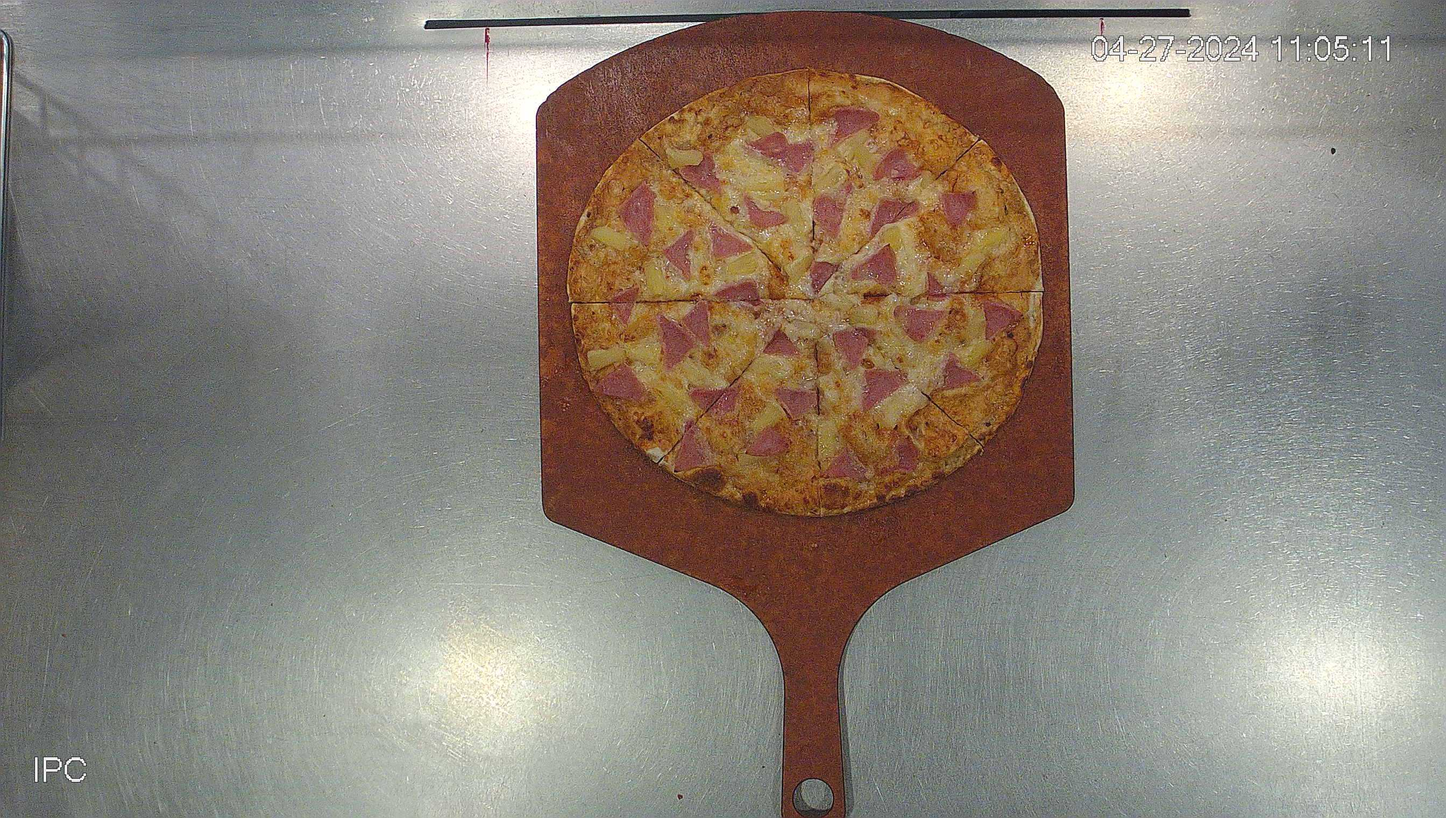manager_choice: (567, 67, 1044, 518)
